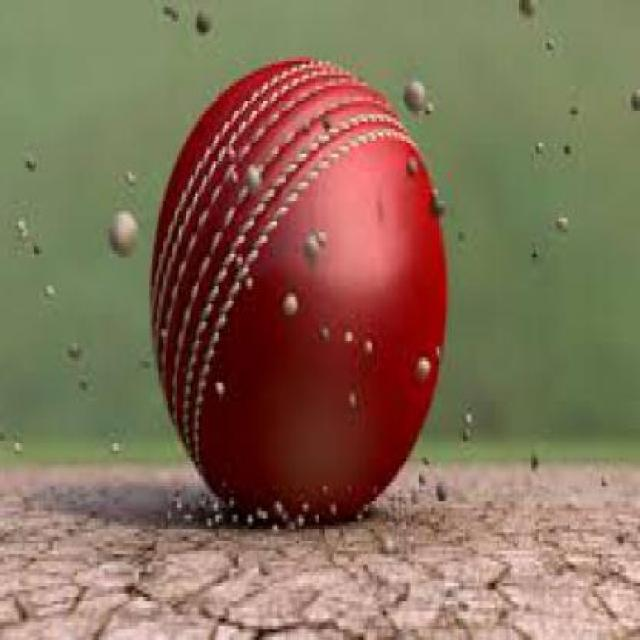ball: (109, 45, 481, 543)
